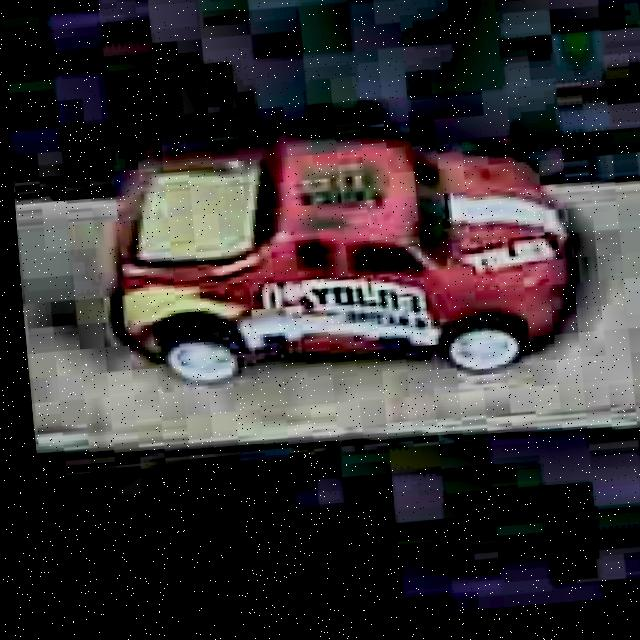car: (94, 109, 587, 403)
